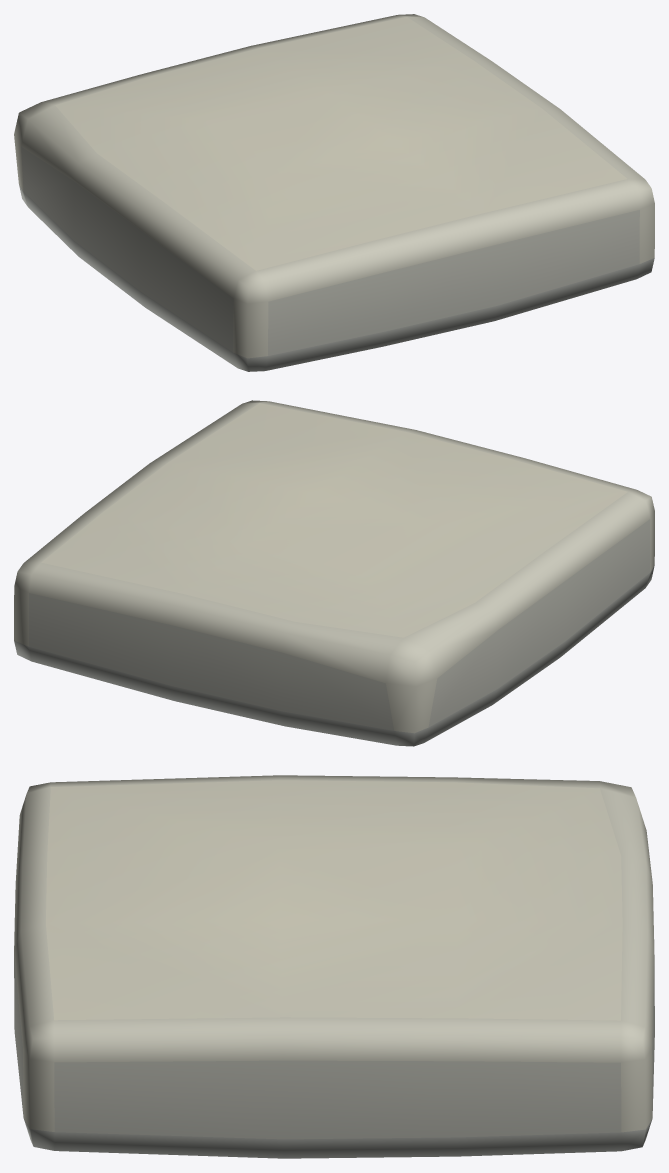
The model's file is trim_stone1_corner_conv_LOD_setup.fbx.
The picture shows the model from 3 angles, top to bottom: view 1: azimuth 30°, elevation 25°; view 2: azimuth 150°, elevation 25°; view 3: azimuth 270°, elevation 25°; orthographic projection. The views are drawn at different scales.
Visible parts, largest first — view 1: trim_stone1_corner_conv_LOD0; view 2: trim_stone1_corner_conv_LOD0; view 3: trim_stone1_corner_conv_LOD0.
Boxes of the visible parts, left/top/right/bottom form: trim_stone1_corner_conv_LOD0: left=14, top=14, right=654, bottom=371; trim_stone1_corner_conv_LOD0: left=14, top=400, right=654, bottom=746; trim_stone1_corner_conv_LOD0: left=14, top=775, right=654, bottom=1158.
Size of what is drawn, in the model's own units: 133 by 33.66 by 135.
